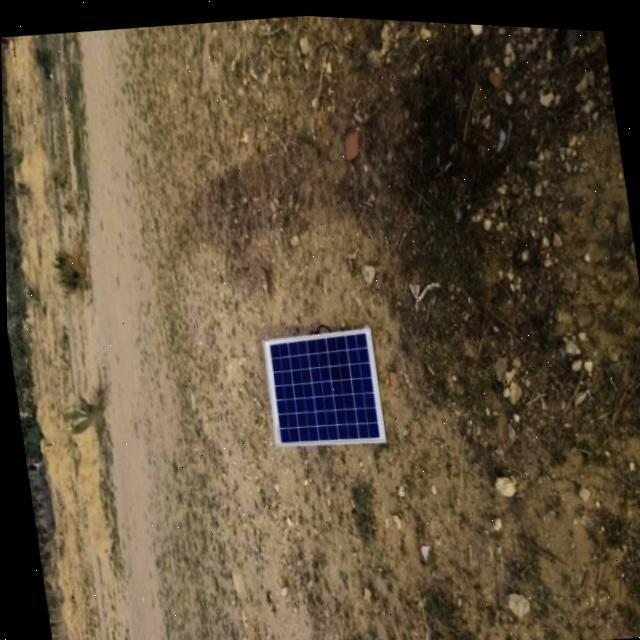Normal Solar Panel: (258, 321, 382, 452)
